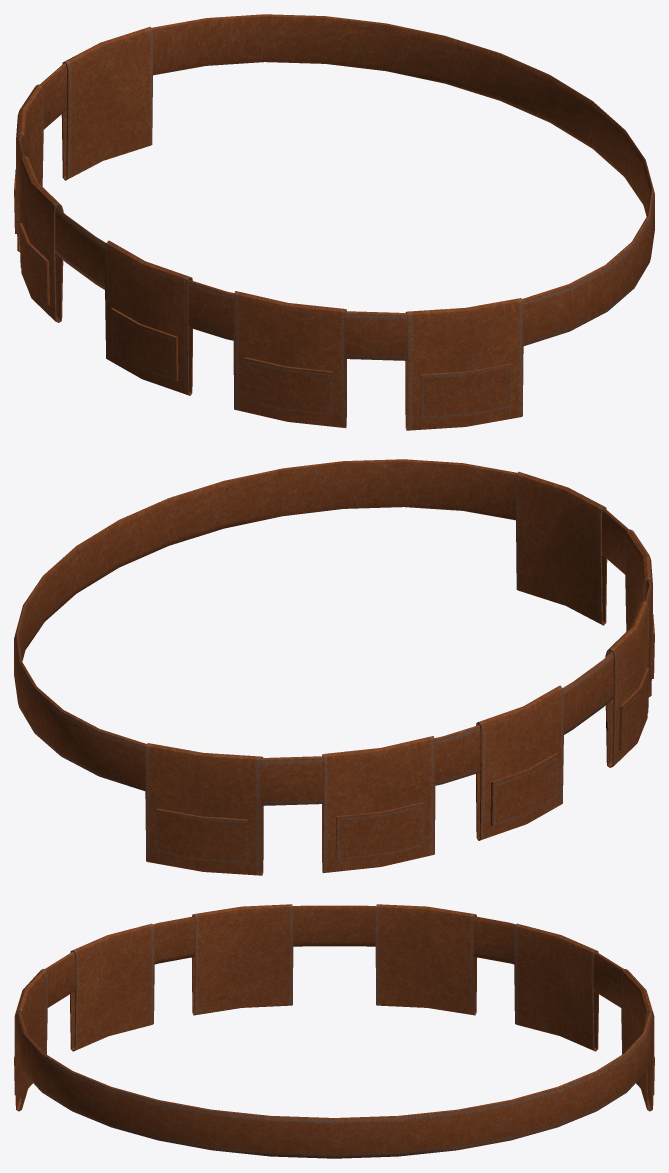
Rendered from Belt.fbx.
3 views of the same model, one above another, from view 1: azimuth 30°, elevation 25°; view 2: azimuth 150°, elevation 25°; view 3: azimuth 270°, elevation 25° (orthographic). The views are drawn at different scales.
Visible parts, largest first — view 1: Belt; view 2: Belt; view 3: Belt.
Part boxes in pixels (x1,y1,x2,y2): Belt: (14, 14, 654, 430); Belt: (14, 459, 654, 875); Belt: (14, 904, 654, 1158).
Size of the model in its own units: 39.37 by 8.8 by 49.78.
1 material, 1 textured.
